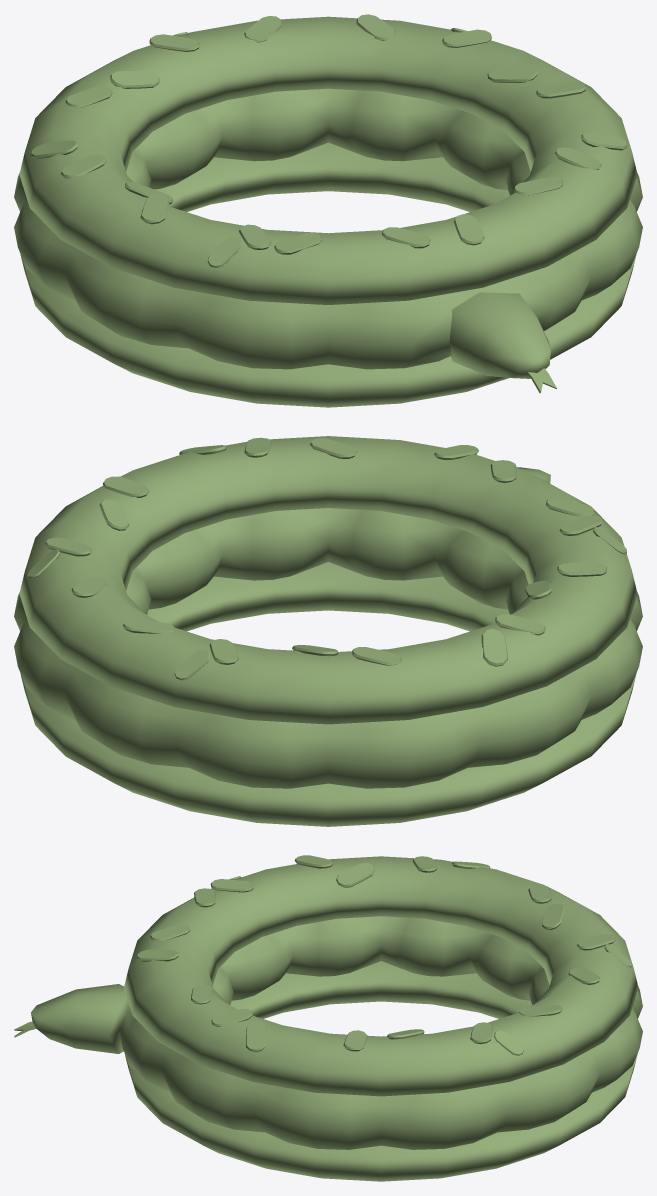
Rendered from PROPS_GOODS_PARISBREST_MODEL.fbx.
The picture shows the model from 3 angles, top to bottom: view 1: azimuth 30°, elevation 25°; view 2: azimuth 150°, elevation 25°; view 3: azimuth 270°, elevation 25°; orthographic projection. The views are drawn at different scales.
Visible parts, largest first — view 1: PROPS_GOODS_PARISBREST_MODEL; view 2: PROPS_GOODS_PARISBREST_MODEL; view 3: PROPS_GOODS_PARISBREST_MODEL.
Boxes of the visible parts, <box> form: PROPS_GOODS_PARISBREST_MODEL: <box>14,14,642,407</box>; PROPS_GOODS_PARISBREST_MODEL: <box>14,436,642,826</box>; PROPS_GOODS_PARISBREST_MODEL: <box>14,855,642,1181</box>.
Bounding box in the file's own units: 21.61 × 6.36 × 25.97.
